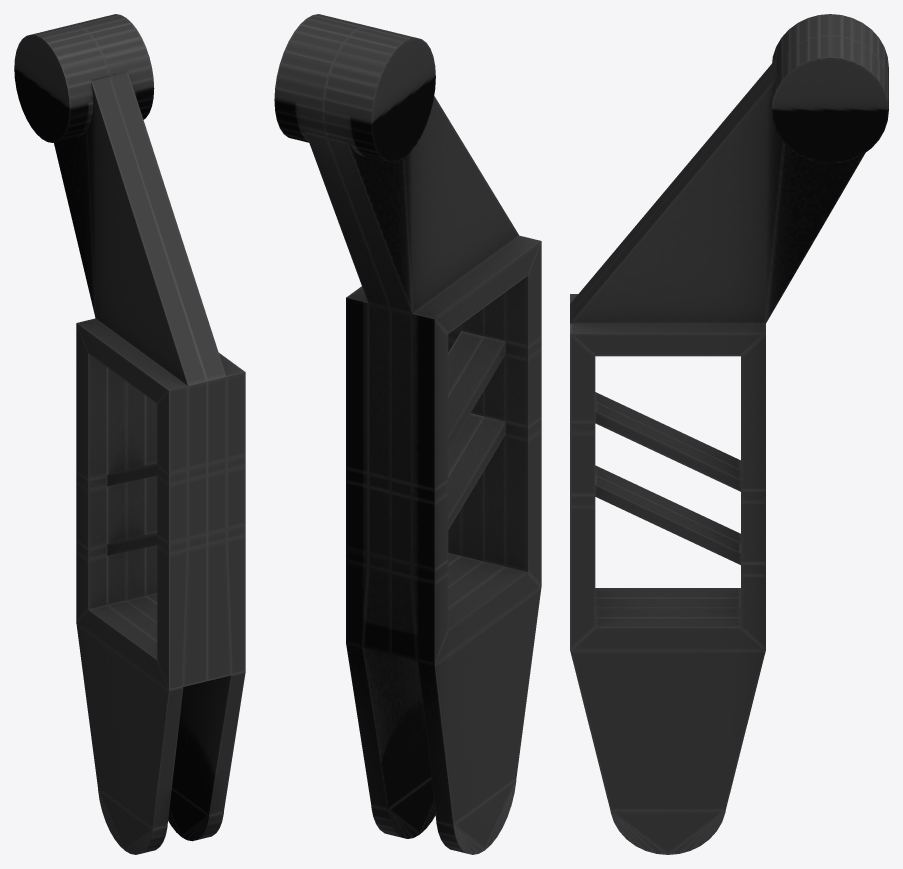
File: forearm.dae
3 views of the same model, side by side, from view 1: azimuth 30°, elevation 25°; view 2: azimuth 150°, elevation 25°; view 3: azimuth 270°, elevation 25° (orthographic). The views are drawn at different scales.
Parts seen in each view (by area): view 1: root-base-bigarm-smallarm; view 2: root-base-bigarm-smallarm; view 3: root-base-bigarm-smallarm.
Boxes of the visible parts, left/top/right/bottom form: root-base-bigarm-smallarm: left=14, top=14, right=245, bottom=854; root-base-bigarm-smallarm: left=274, top=14, right=541, bottom=854; root-base-bigarm-smallarm: left=570, top=14, right=888, bottom=854.
Size of the model in its own units: 0.0732 by 0.2267 by 0.6285.
